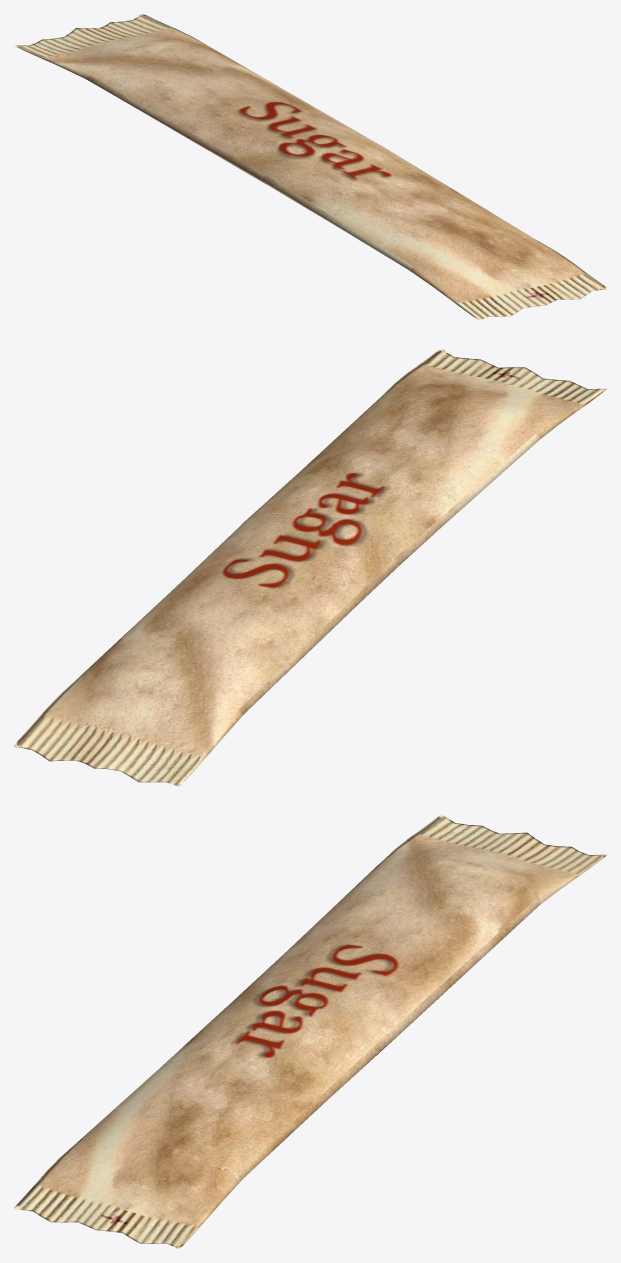
File: Sugar.FBX
3 renders of one model, top to bottom at view 1: azimuth 30°, elevation 25°; view 2: azimuth 150°, elevation 25°; view 3: azimuth 330°, elevation 25°, orthographic. The views are drawn at different scales.
Visible parts, largest first — view 1: Sugar; view 2: Sugar; view 3: Sugar.
Part boxes in pixels (left/top/right/bottom): Sugar: left=14, top=14, right=606, bottom=320; Sugar: left=14, top=349, right=606, bottom=786; Sugar: left=14, top=815, right=606, bottom=1248.
Bounding box in the file's own units: 2.4 × 0.5103 × 8.57.
Materials: 1 (1 with a texture image).
